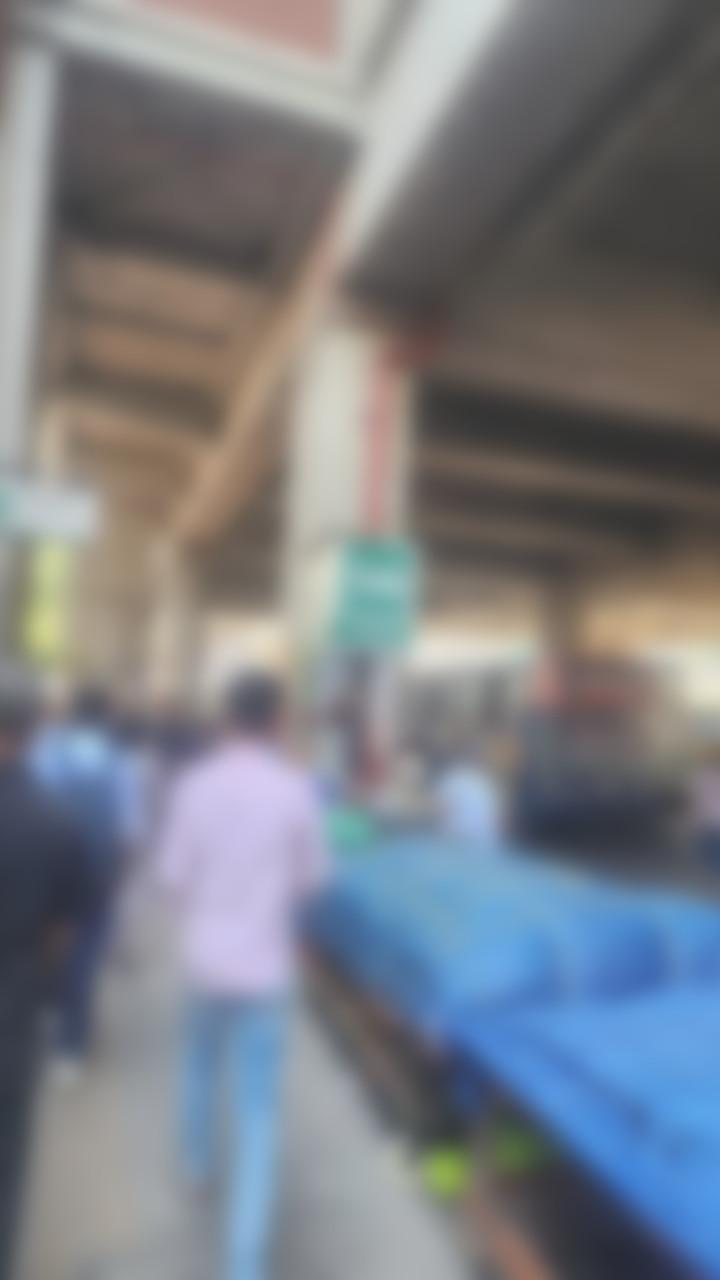Metro Dorp Up Pick up: (310, 524, 420, 662)
